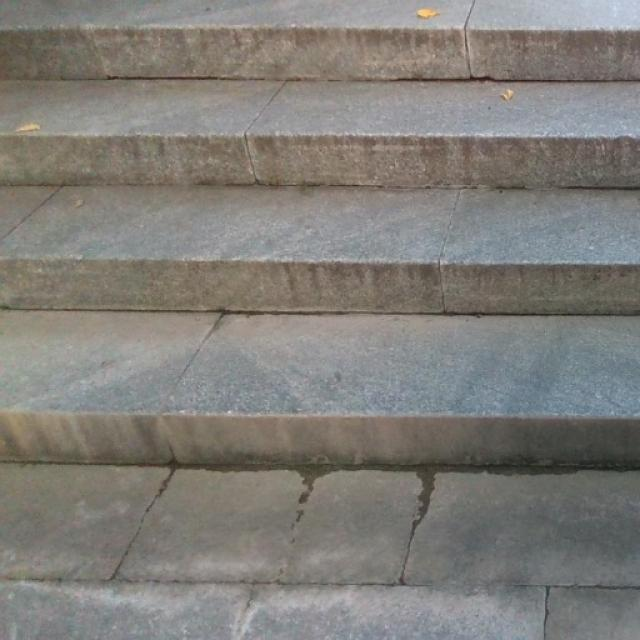Stairs: (0, 21, 639, 563)
